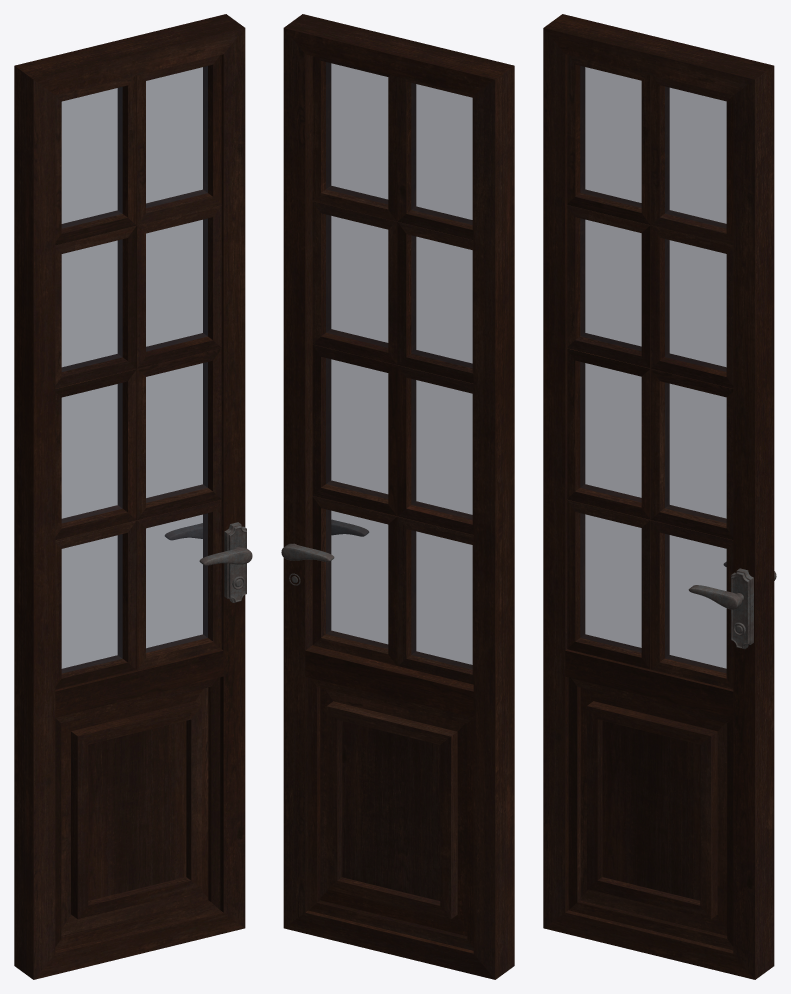
File: SK2 DOOR SMALL.fbx
The picture shows the model from 3 angles, left to right: view 1: azimuth 30°, elevation 25°; view 2: azimuth 150°, elevation 25°; view 3: azimuth 330°, elevation 25°; orthographic projection.
Parts seen in each view (by area): view 1: SK2 DOOR SMALL; view 2: SK2 DOOR SMALL; view 3: SK2 DOOR SMALL.
Boxes of the visible parts, <box> form: SK2 DOOR SMALL: <box>14,14,252,979</box>; SK2 DOOR SMALL: <box>281,14,514,979</box>; SK2 DOOR SMALL: <box>543,14,776,979</box>.
Size of the model in its own units: 56.82 by 231 by 18.73.
